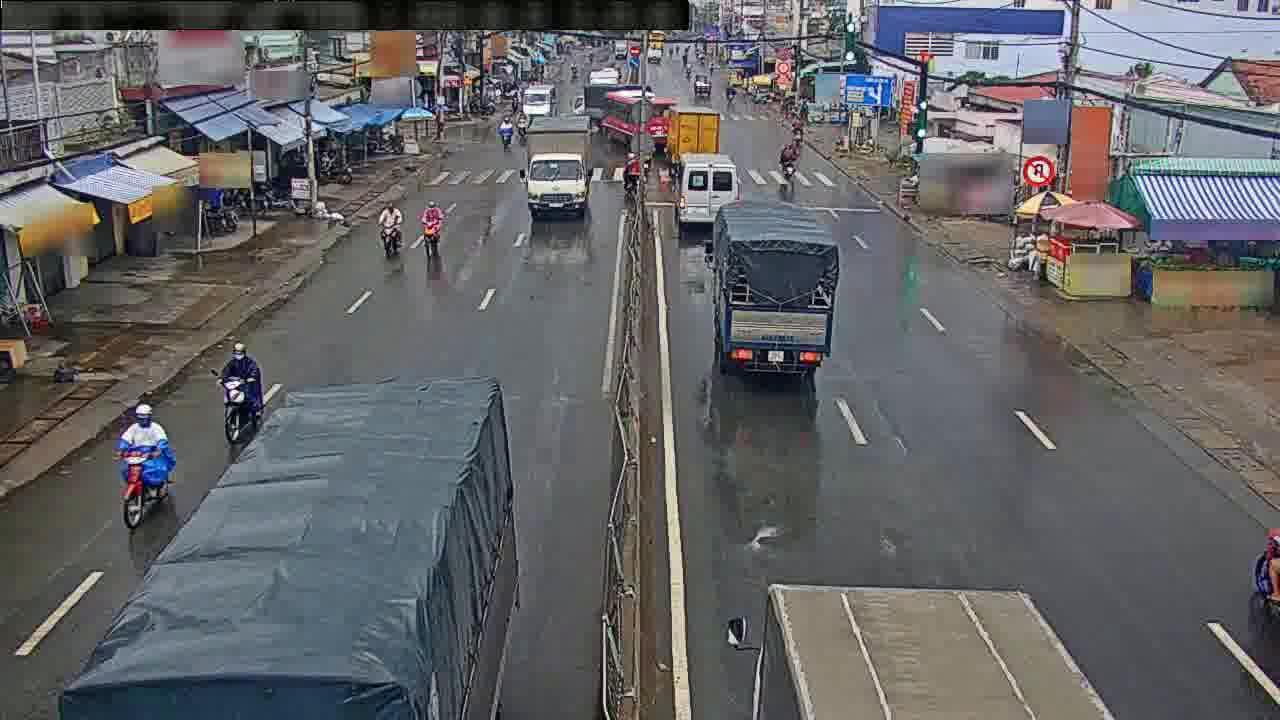14: (678, 152, 739, 224)
8: (83, 360, 530, 720), (719, 568, 1123, 720), (702, 196, 846, 377), (522, 114, 593, 219), (670, 102, 725, 162)
motorbike: (100, 401, 182, 528), (197, 340, 274, 436), (375, 195, 405, 258), (772, 135, 808, 182), (416, 200, 443, 258), (615, 154, 645, 194), (500, 112, 514, 141)
